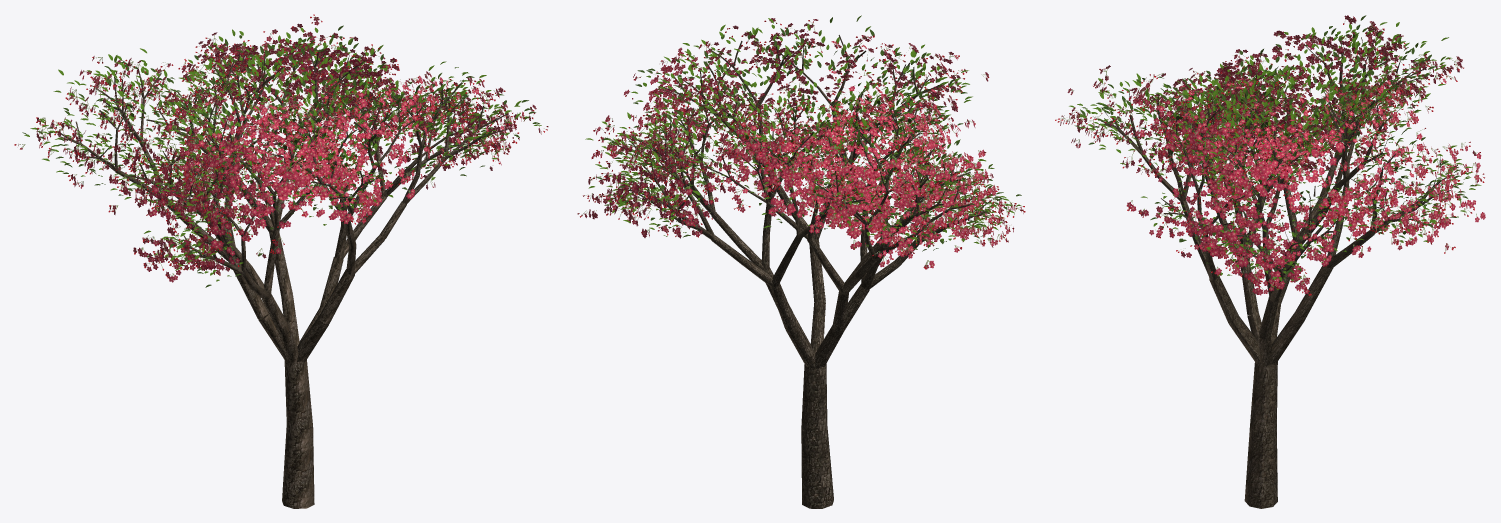
Rendered from yh_haitang.glb.
3 renders of one model, left to right at view 1: azimuth 30°, elevation 25°; view 2: azimuth 150°, elevation 25°; view 3: azimuth 270°, elevation 25°, orthographic.
Visible parts, largest first — view 1: yh_haitang_花叶, yh_haitang_树皮, yh_haitang_茎; view 2: yh_haitang_花叶, yh_haitang_树皮, yh_haitang_茎; view 3: yh_haitang_花叶, yh_haitang_树皮, yh_haitang_茎.
Boxes of the visible parts, x1,y1,x2,y2 form: yh_haitang_花叶: (14, 14, 548, 287); yh_haitang_树皮: (58, 46, 510, 508); yh_haitang_茎: (19, 16, 544, 276); yh_haitang_花叶: (577, 15, 1025, 269); yh_haitang_树皮: (617, 35, 991, 508); yh_haitang_茎: (582, 21, 1022, 266); yh_haitang_花叶: (1055, 15, 1485, 295); yh_haitang_树皮: (1093, 37, 1457, 508); yh_haitang_茎: (1057, 18, 1480, 290).
Size of the model in its own units: 1.03 by 1 by 0.8937.
Materials: 3 (2 with a texture image).
